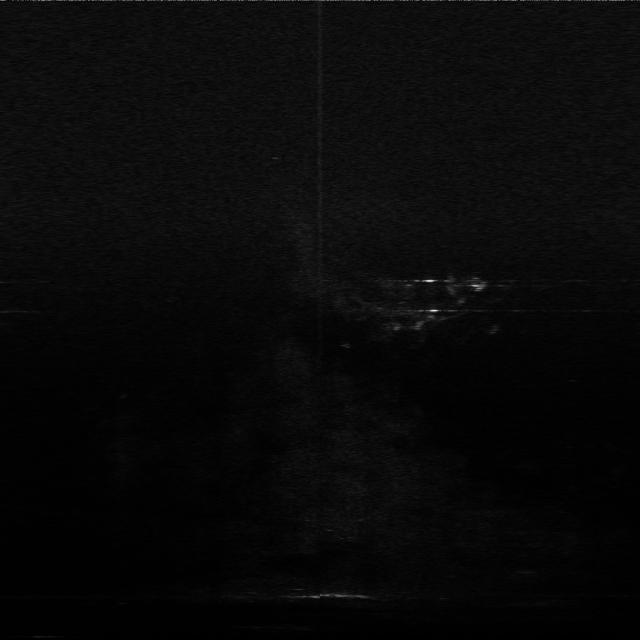rov: (463, 277, 491, 292)
